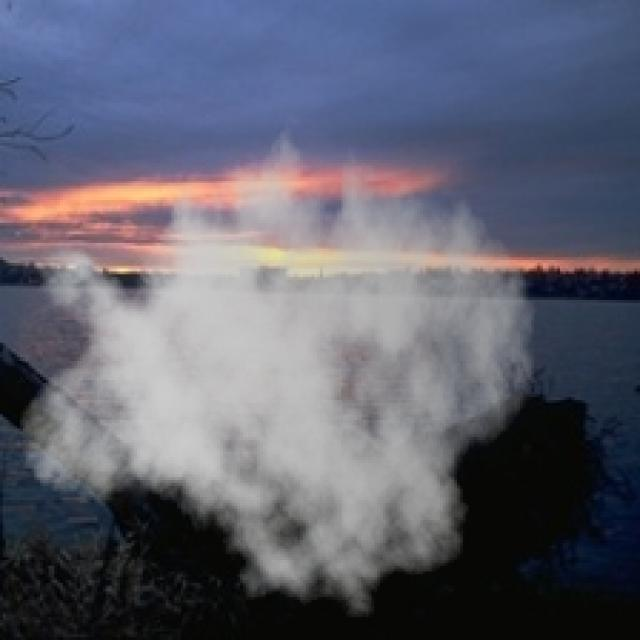Smoke: (17, 106, 537, 632)
